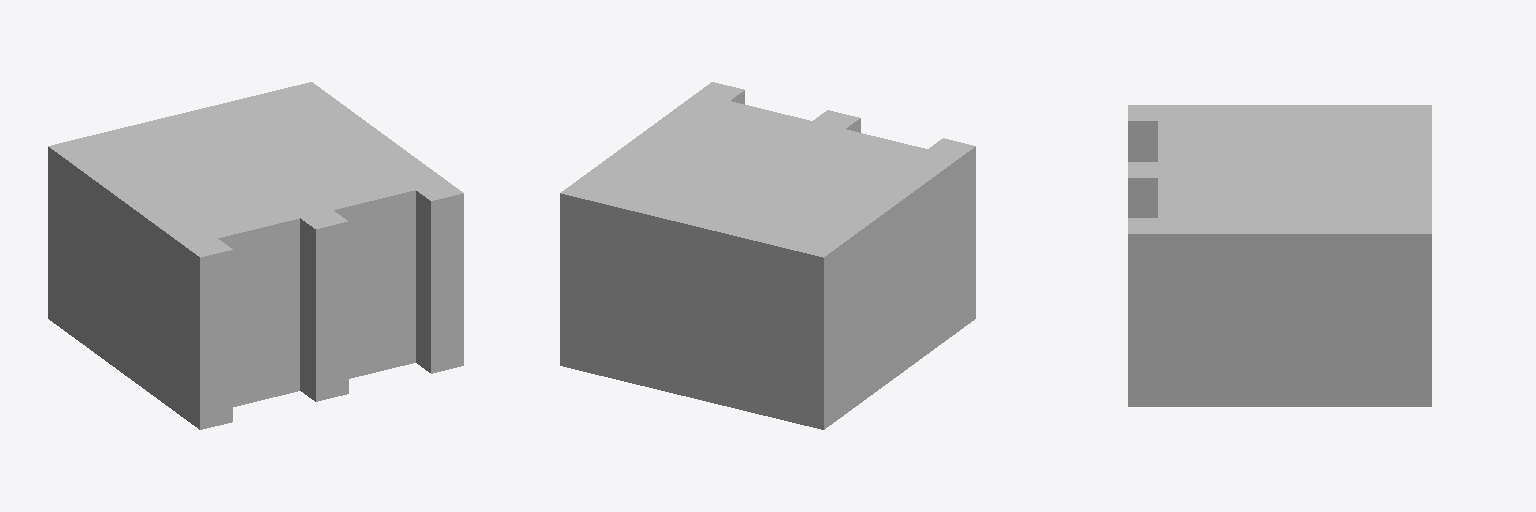
File: building-windows-high-middle.obj
The picture shows the model from 3 angles: view 1: azimuth 30°, elevation 25°; view 2: azimuth 150°, elevation 25°; view 3: azimuth 270°, elevation 25°; orthographic projection.
Parts seen in each view (by area): view 1: building-windows-high-middle; view 2: building-windows-high-middle; view 3: building-windows-high-middle.
Part boxes in pixels (bbox=[...]): building-windows-high-middle: bbox=[48, 82, 463, 429]; building-windows-high-middle: bbox=[560, 82, 975, 429]; building-windows-high-middle: bbox=[1128, 105, 1431, 406].
Bounding box in the file's own units: 1 × 0.625 × 1.